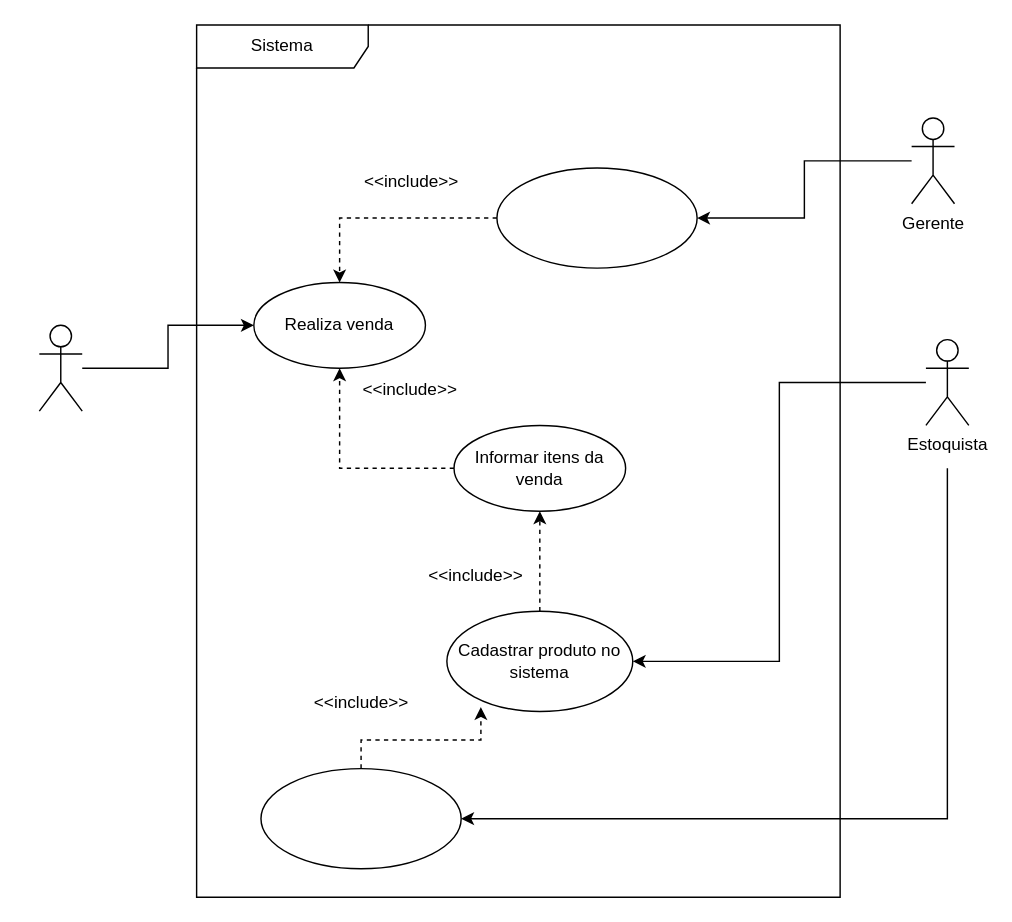
This 1012x922 diagram has some shape labels left out. The shapes that lost their labels are listed below. From the top down, each one's centre as x and y in pixels, then its label:
(596,217): Abrir caixa
(60,367): Vendedor
(360,818): Cadastrar fornecedor
